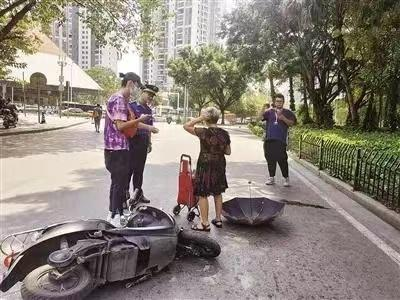up: (184, 105, 233, 233), (101, 68, 138, 224), (254, 94, 300, 188), (127, 80, 158, 209)
